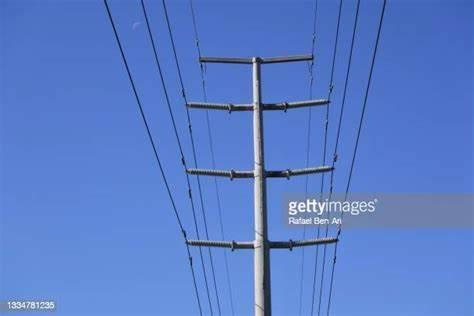power_tower: (180, 46, 340, 316)
